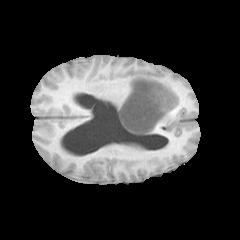glioma: (116, 73, 179, 134)
